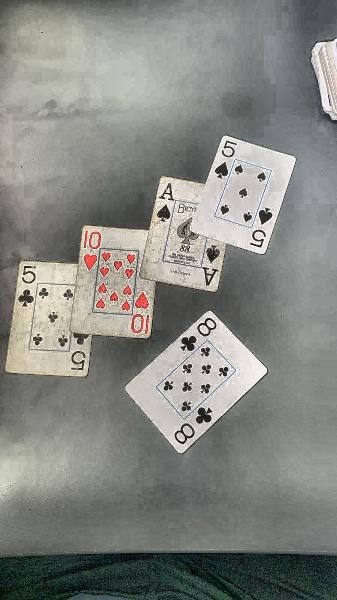10C: (131, 289, 153, 336), (81, 228, 103, 273)
5P: (66, 326, 94, 372), (211, 139, 239, 181), (248, 206, 275, 249), (16, 263, 39, 309)
8T: (173, 406, 215, 445), (178, 317, 219, 354)
AP: (200, 243, 223, 288), (154, 181, 176, 224)
